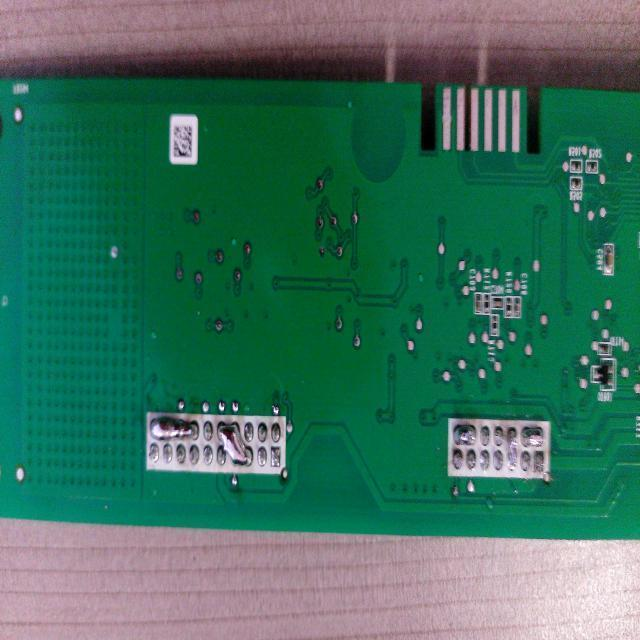Soldering shorted: (216, 414, 254, 469), (149, 414, 201, 440), (520, 423, 550, 448), (508, 418, 519, 478), (453, 426, 476, 446)
